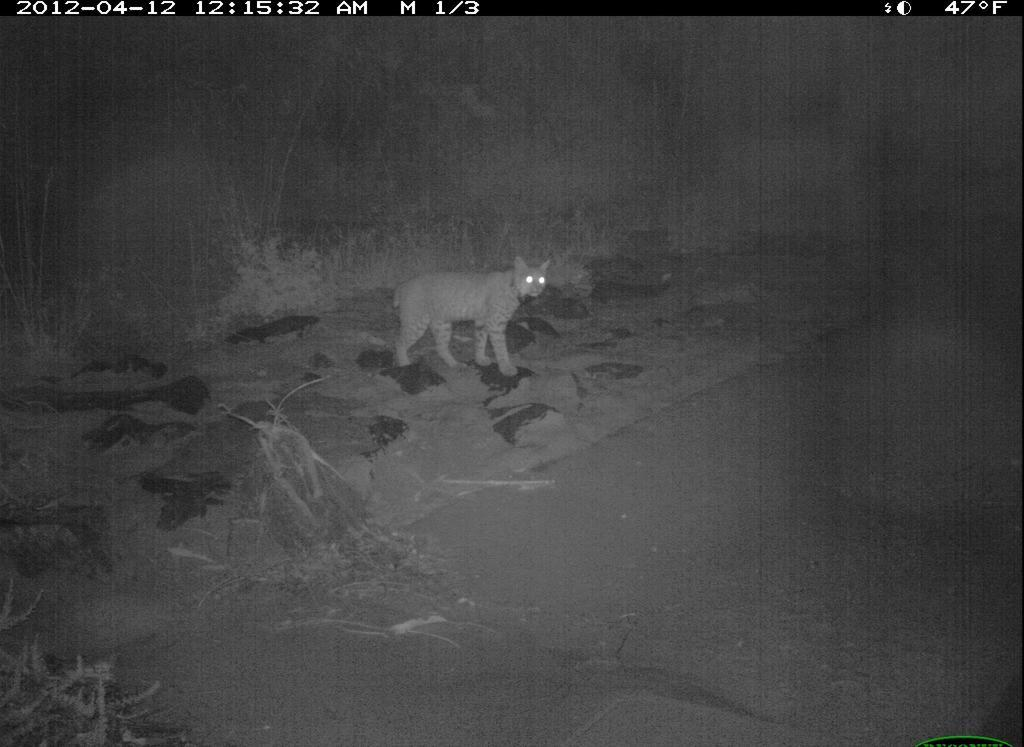bobcat: (388, 254, 555, 381)
